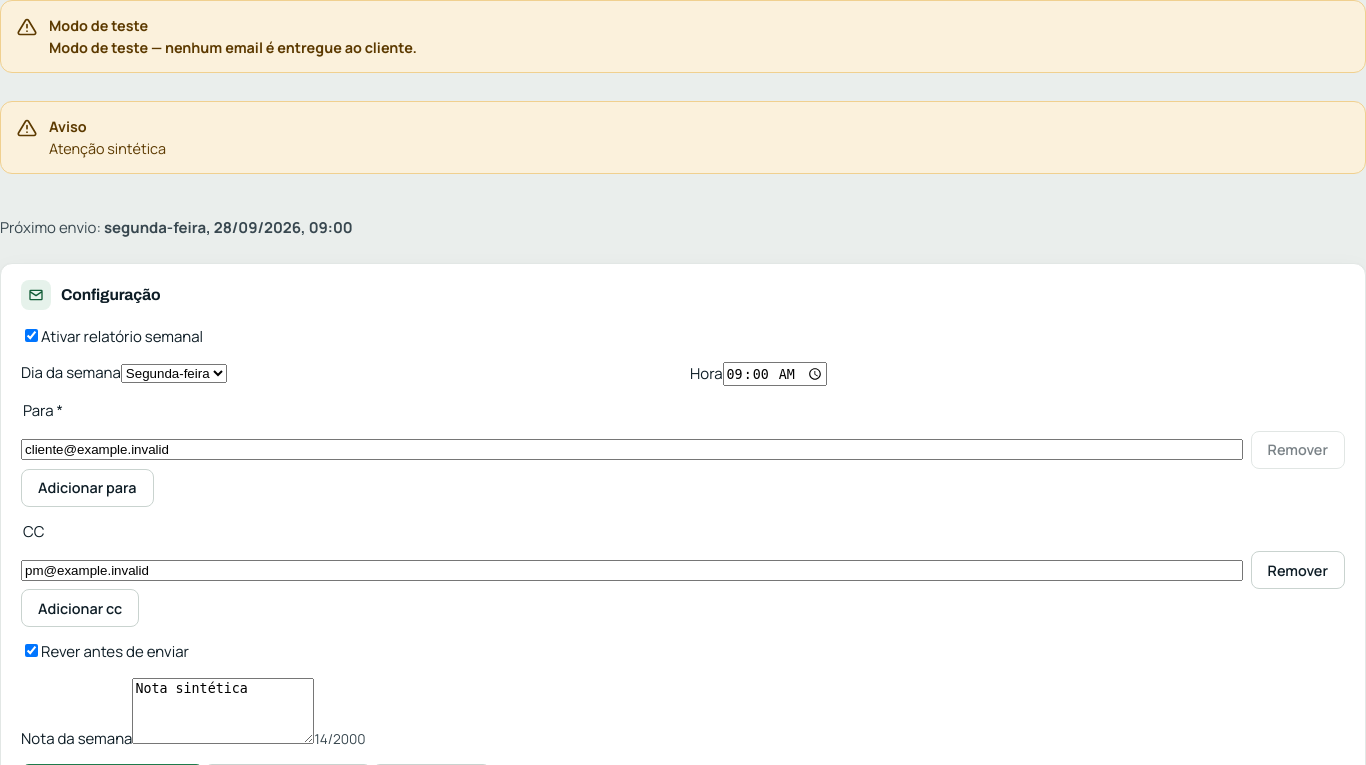
Scenario: ClientReport › valida endereços de email antes de guardar
The width and height of the screenshot is (1366, 765).
Expected: the heading "Configuração" is shown, [21,280,160,310]
Replace the text in the field named "Para 1" with "email-invalido". click: (632, 450)
box: [21,439,1243,460]
(page scrolled)
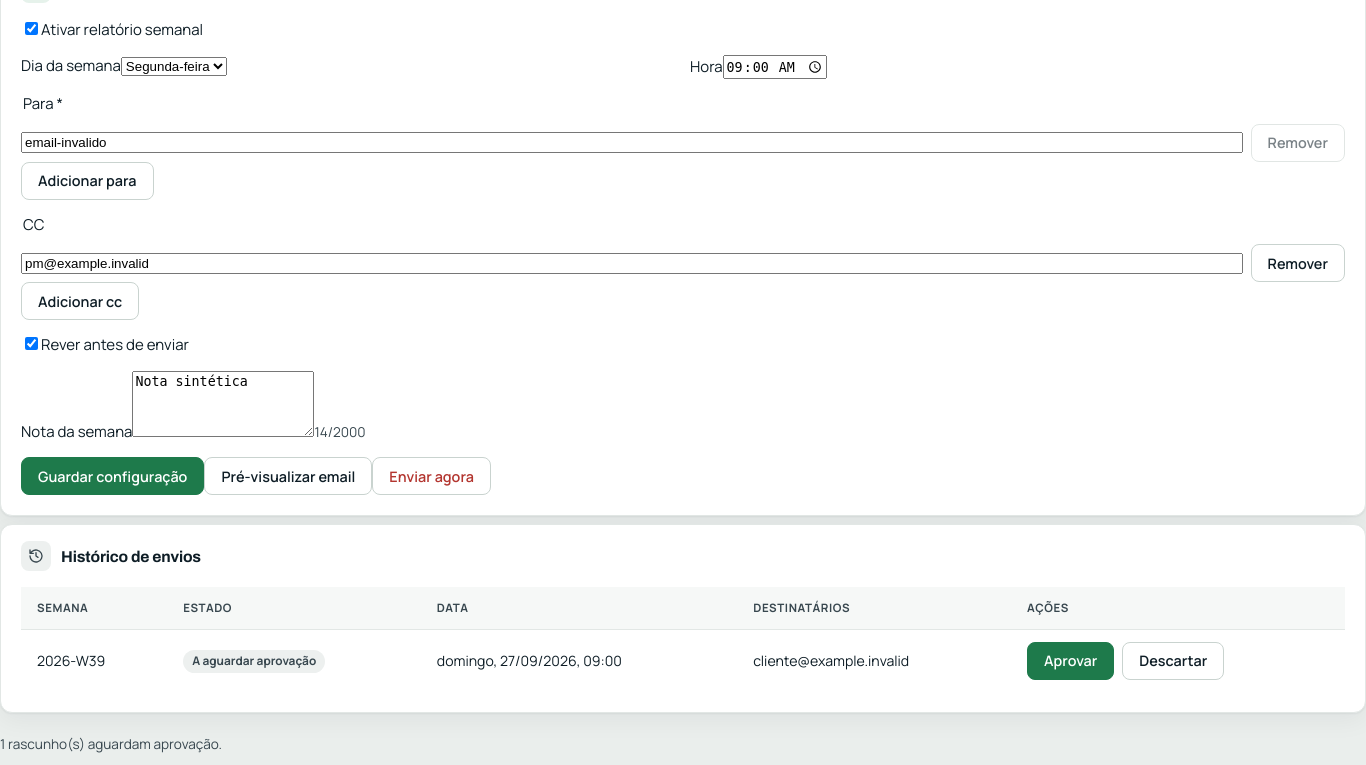
Click the button "Guardar configuração". click: (113, 476)
box: [21,457,204,495]
(page scrolled)
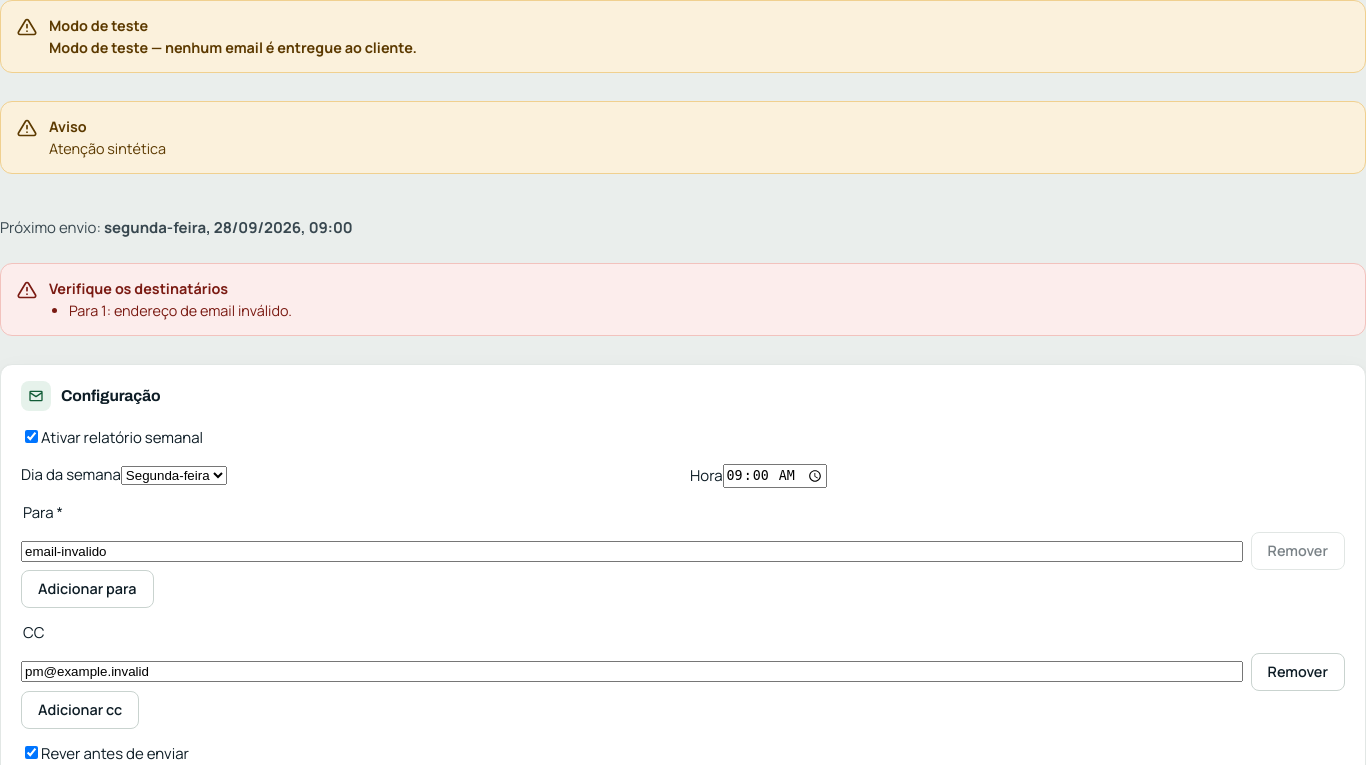
Result: the list item "Para 1: endereço de email inválido." is shown at [69,300,292,320]
